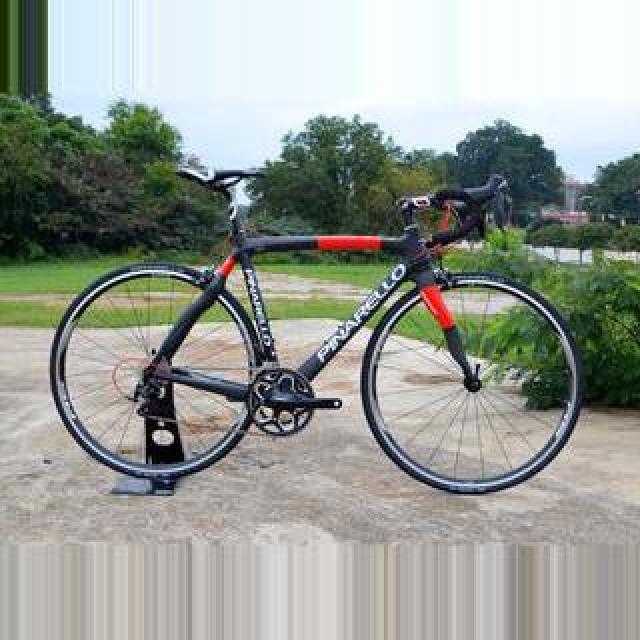Person: (31, 143, 585, 511)
